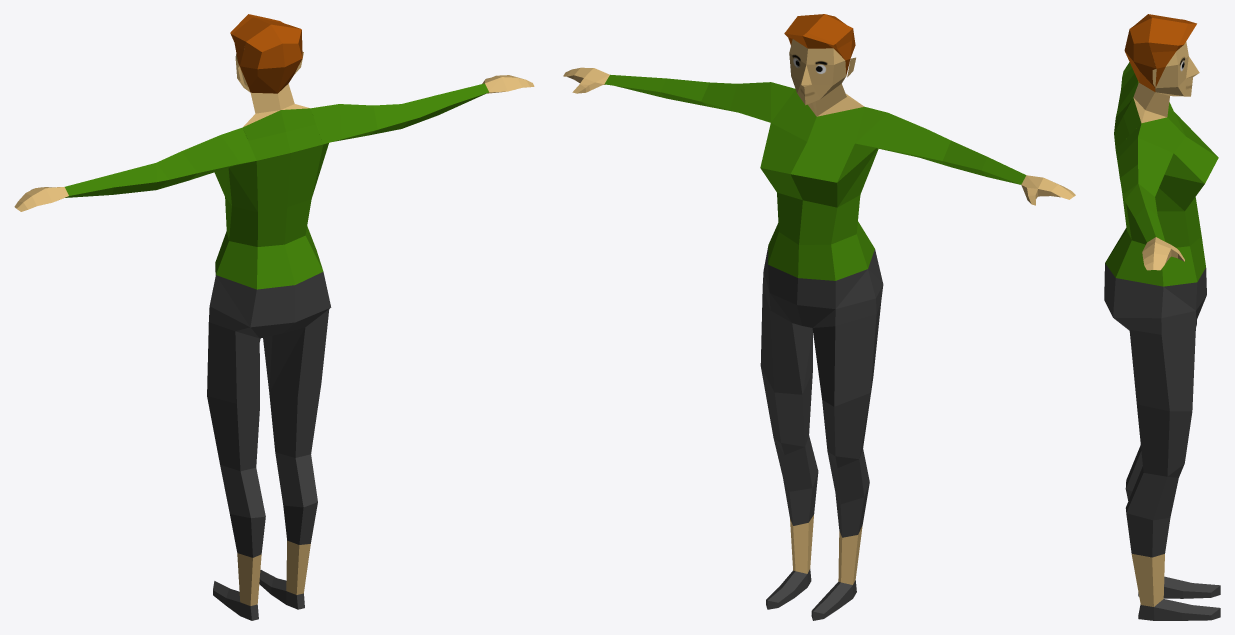
Rendered from NPCfeminino.fbx.
3 views of the same model, side by side, from view 1: azimuth 30°, elevation 25°; view 2: azimuth 150°, elevation 25°; view 3: azimuth 270°, elevation 25° (orthographic).
Parts seen in each view (by area): view 1: polySurface1; view 2: polySurface1; view 3: polySurface1.
Boxes of the visible parts, <box> form: polySurface1: <box>14,14,534,620</box>; polySurface1: <box>563,14,1075,620</box>; polySurface1: <box>1104,14,1220,620</box>.
Size of the model in its own units: 14.88 by 16.12 by 2.9.
